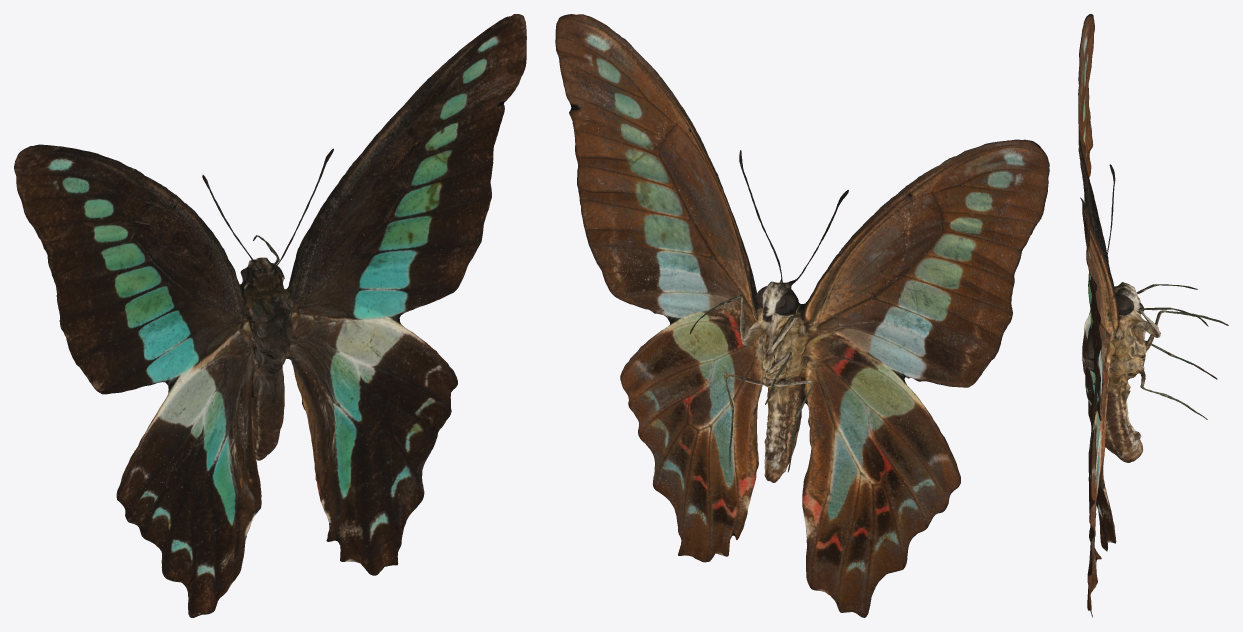
Rendered from graphium_sarpedon.glb.
3 renders of one model, left to right at view 1: azimuth 30°, elevation 25°; view 2: azimuth 150°, elevation 25°; view 3: azimuth 270°, elevation 25°, orthographic. The views are drawn at different scales.
Visible parts, largest first — view 1: IKISHIMA005-W03-1-1_1; view 2: IKISHIMA005-W03-1-1_1; view 3: IKISHIMA005-W03-1-1_1.
Part boxes in pixels (left/top/right/bottom): IKISHIMA005-W03-1-1_1: left=14, top=14, right=526, bottom=617; IKISHIMA005-W03-1-1_1: left=555, top=14, right=1049, bottom=617; IKISHIMA005-W03-1-1_1: left=1078, top=14, right=1228, bottom=617.
Bounding box in the file's own units: 0.0695 × 0.0699 × 0.0203.
1 material, 1 textured.
